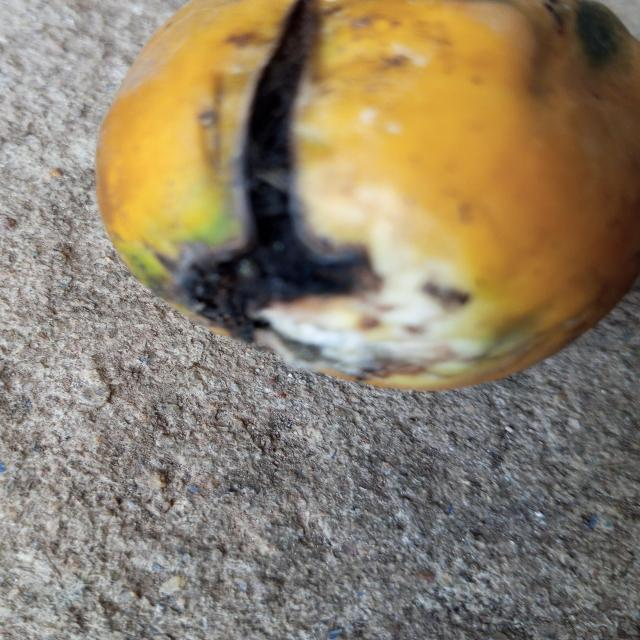damaged: (95, 0, 640, 395)
